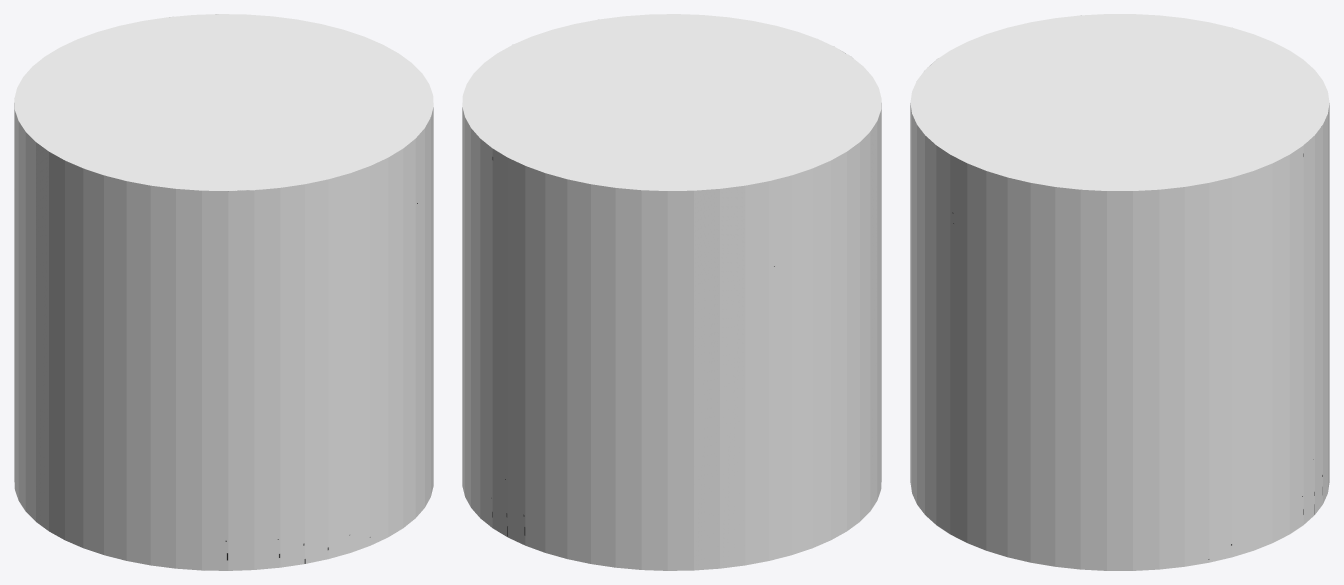
The model's file is baton.obj.
3 views of the same model, side by side, from view 1: azimuth 30°, elevation 25°; view 2: azimuth 150°, elevation 25°; view 3: azimuth 270°, elevation 25° (orthographic).
Parts seen in each view (by area): view 1: baton_Cylinder; view 2: baton_Cylinder; view 3: baton_Cylinder.
Boxes of the visible parts, left/top/right/bottom form: baton_Cylinder: left=14, top=14, right=433, bottom=570; baton_Cylinder: left=462, top=14, right=881, bottom=570; baton_Cylinder: left=910, top=14, right=1329, bottom=570.
Size of the model in its own units: 1 by 1 by 1.
